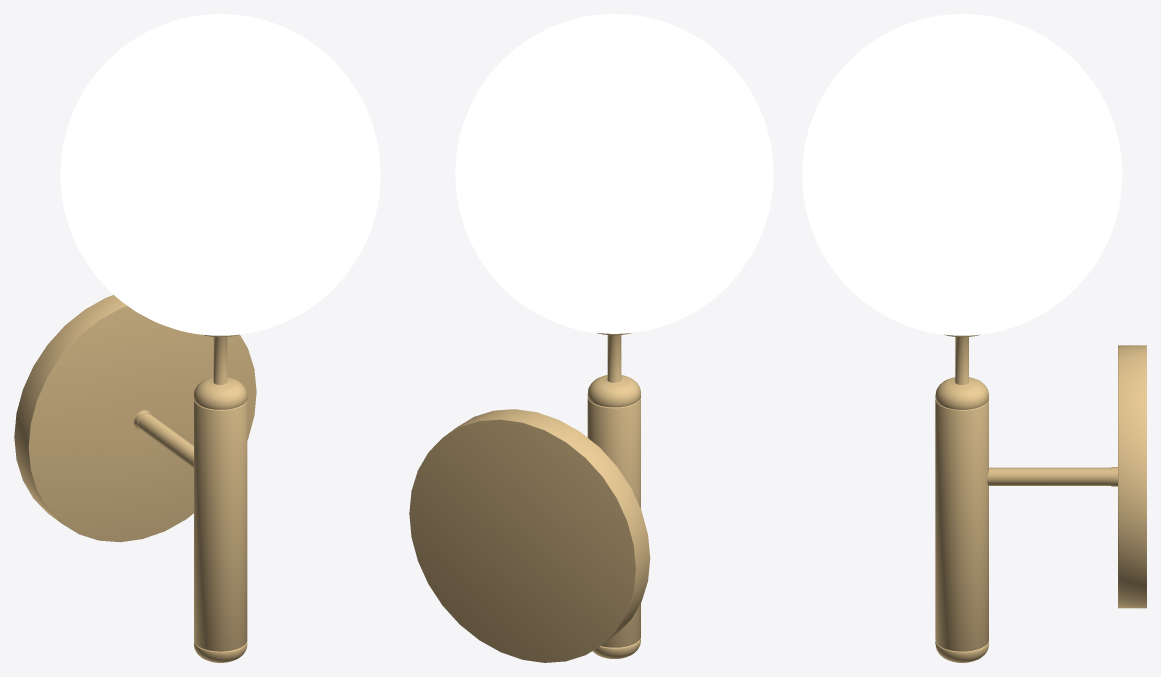
File: uploads_files_3427637_Lamp.gltf
3 renders of one model, left to right at view 1: azimuth 30°, elevation 25°; view 2: azimuth 150°, elevation 25°; view 3: azimuth 270°, elevation 25°, orthographic.
Parts seen in each view (by area): view 1: Sphere.002, Circle.016, Circle.017; view 2: Sphere.002, Circle.016, Circle.017; view 3: Sphere.002, Circle.017, Circle.016.
Boxes of the visible parts, x1,y1,x2,y2 form: Sphere.002: (60, 14, 380, 335); Circle.016: (14, 295, 256, 542); Circle.017: (194, 334, 247, 662); Sphere.002: (455, 14, 773, 333); Circle.016: (409, 409, 650, 662); Circle.017: (587, 333, 640, 658); Sphere.002: (802, 14, 1122, 335); Circle.017: (935, 334, 988, 662); Circle.016: (987, 345, 1146, 608).
Bounding box in the file's own units: 0.1508 × 0.3265 × 0.1623.
